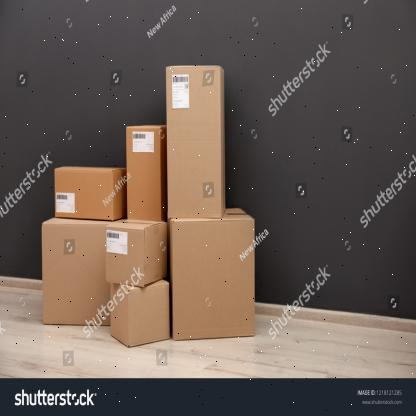box: (172, 217, 254, 341), (167, 65, 223, 218), (43, 223, 111, 324), (126, 126, 162, 223), (54, 167, 113, 222), (129, 280, 170, 349), (105, 224, 143, 287)
